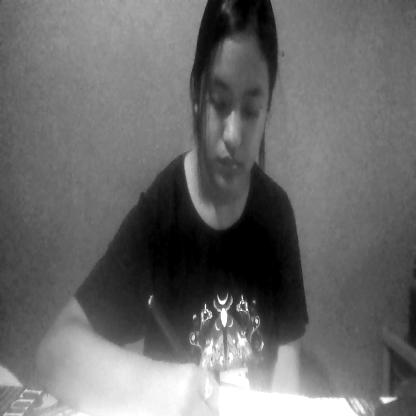Normal: (195, 12, 276, 193)
